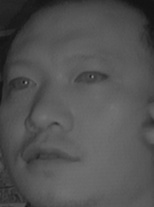eye: (8, 70, 41, 94), (74, 65, 109, 86)
mouth: (21, 139, 83, 177)
